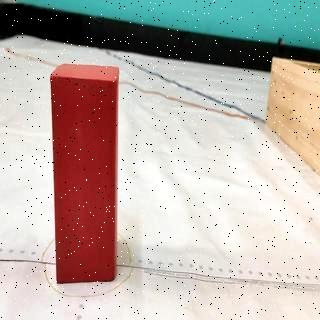redbox: (50, 63, 119, 288)
